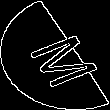M_NE: (12, 23, 98, 87)
